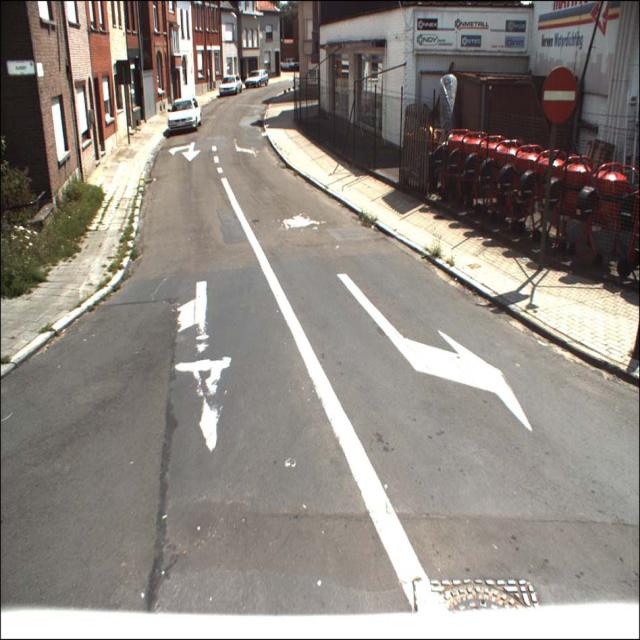girisyok: (541, 66, 578, 122)
